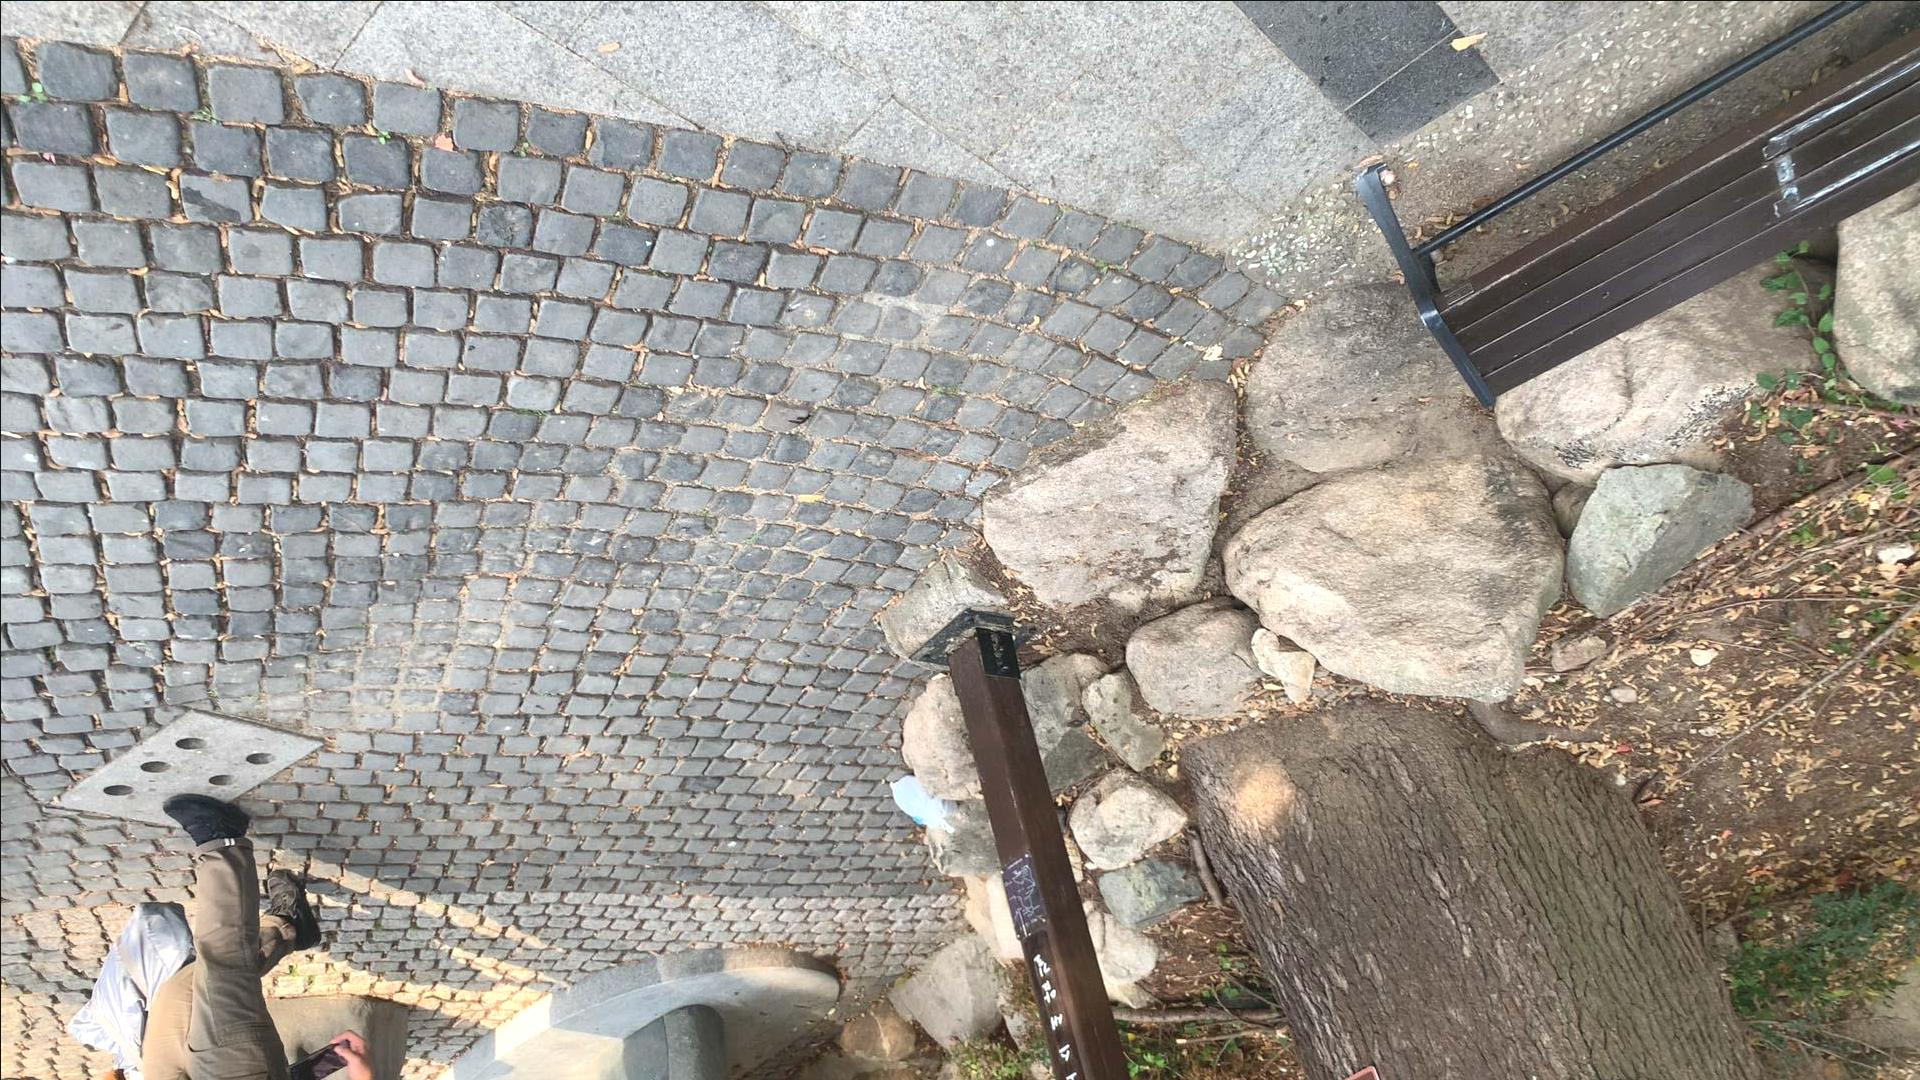white_bag: (884, 771, 953, 836)
